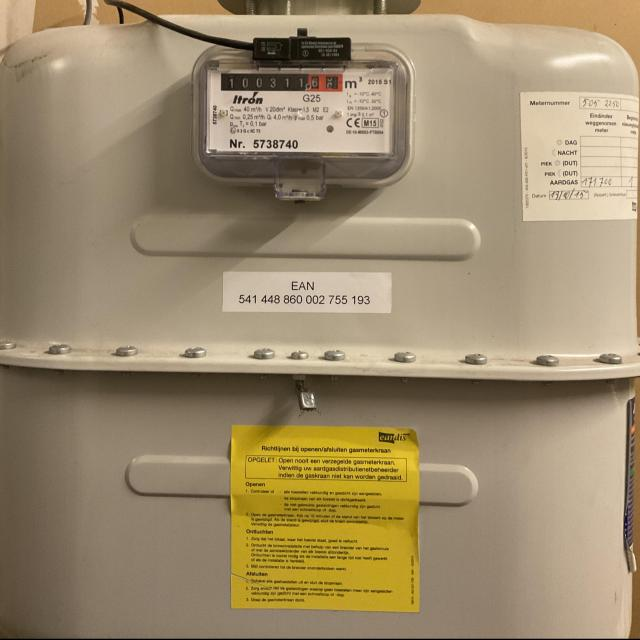gaz_meter: (206, 54, 403, 160)
indication: (221, 73, 342, 91)
